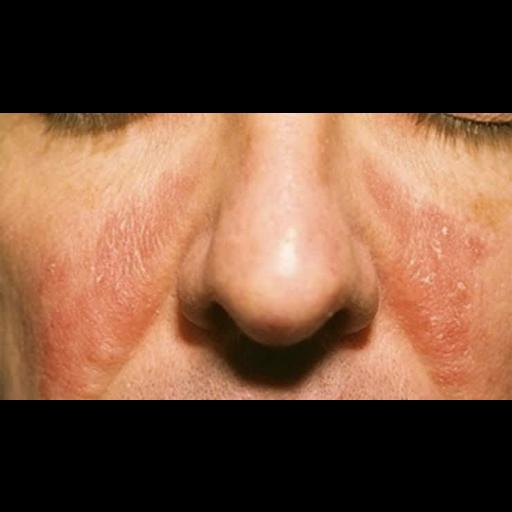Skin_Lesion: (404, 269, 494, 367), (70, 310, 116, 364), (106, 224, 140, 290), (414, 214, 452, 252), (41, 256, 77, 290), (466, 236, 494, 262)
